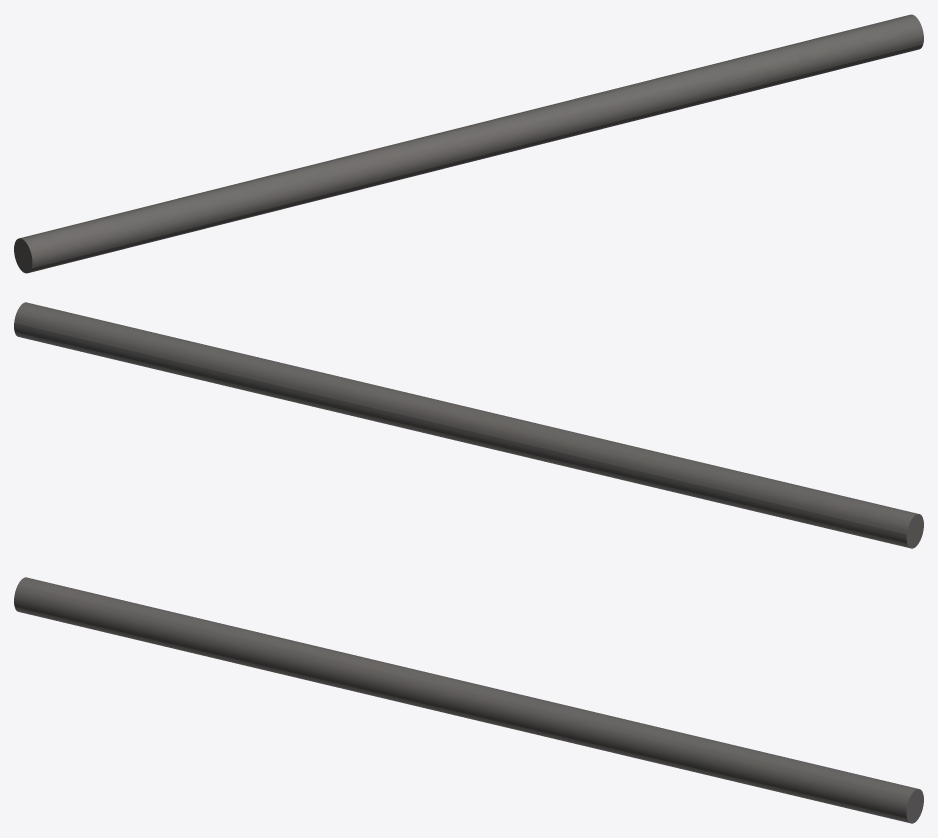
Rendered from backrest__backrest_under_rail_1.glb.
3 renders of one model, top to bottom at view 1: azimuth 30°, elevation 25°; view 2: azimuth 150°, elevation 25°; view 3: azimuth 330°, elevation 25°, orthographic.
Parts seen in each view (by area): view 1: world; view 2: world; view 3: world.
Boxes of the visible parts, <box> form: world: <box>14,14,923,273</box>; world: <box>14,302,923,548</box>; world: <box>14,577,923,823</box>.
Size of the model in its own units: 0.8053 by 0.028 by 0.038.
1 material, 1 textured.
